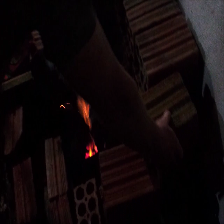fire_h: (76, 97, 91, 128)
fire_l: (85, 140, 98, 159), (59, 104, 65, 109)
